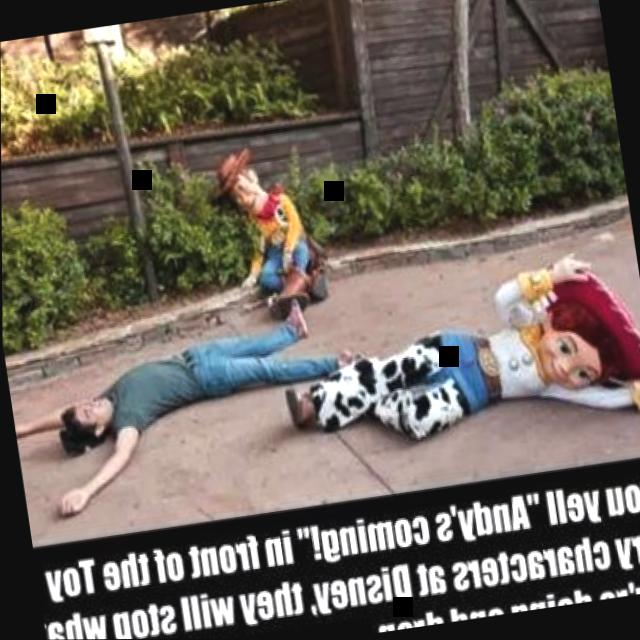Fall-Detected: (194, 130, 353, 326)
